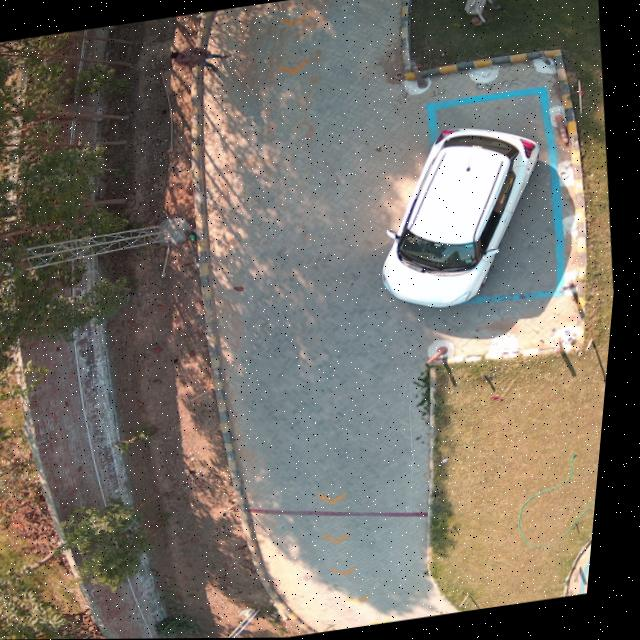car: (389, 128, 541, 308)
